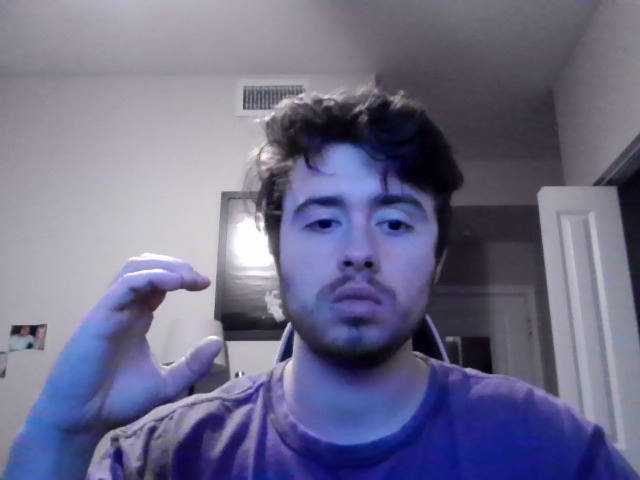c: (28, 251, 225, 437)
